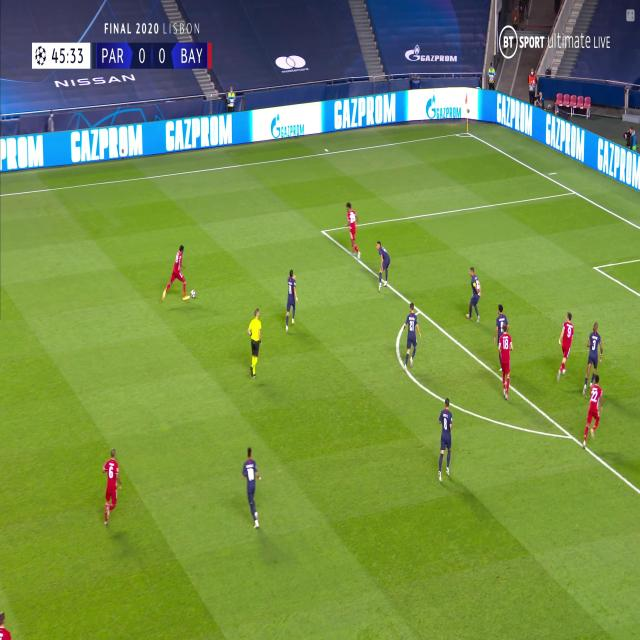ball: (190, 286, 196, 299)
player: (99, 448, 122, 530), (580, 376, 605, 451), (240, 447, 262, 530), (437, 396, 456, 484), (161, 245, 190, 302), (553, 310, 575, 382), (581, 322, 603, 393), (498, 323, 514, 402), (404, 300, 421, 373), (248, 308, 264, 380), (284, 268, 300, 333), (344, 203, 361, 260), (468, 266, 482, 328), (377, 239, 391, 294), (0, 607, 15, 640), (494, 304, 510, 334)
